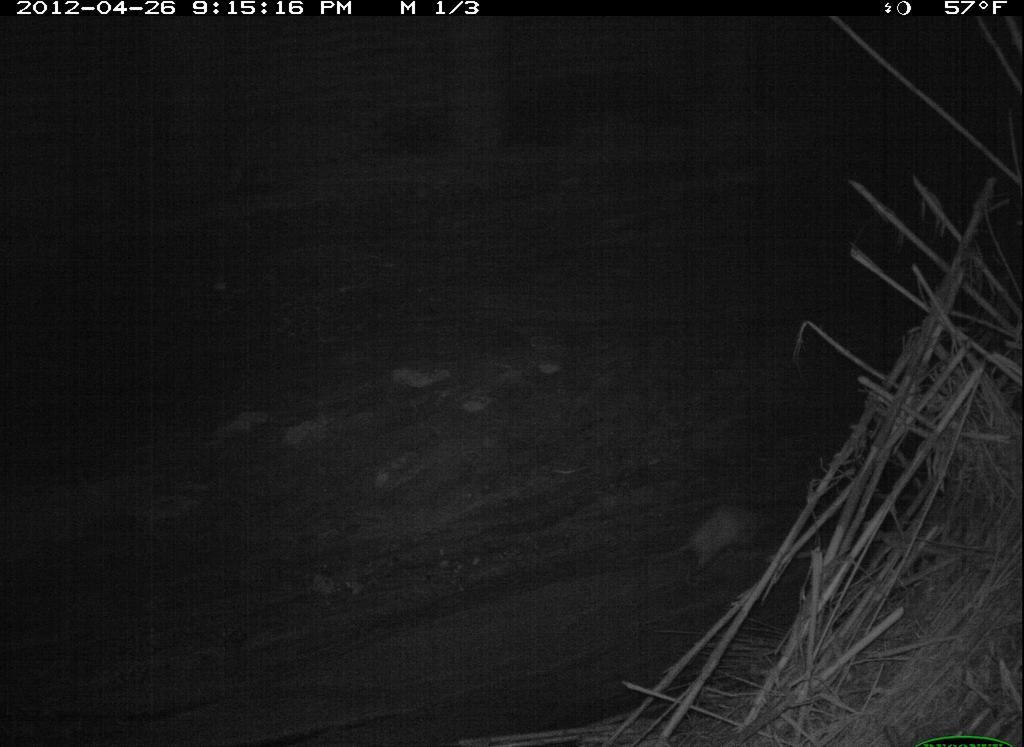opossum: (626, 497, 821, 591)
